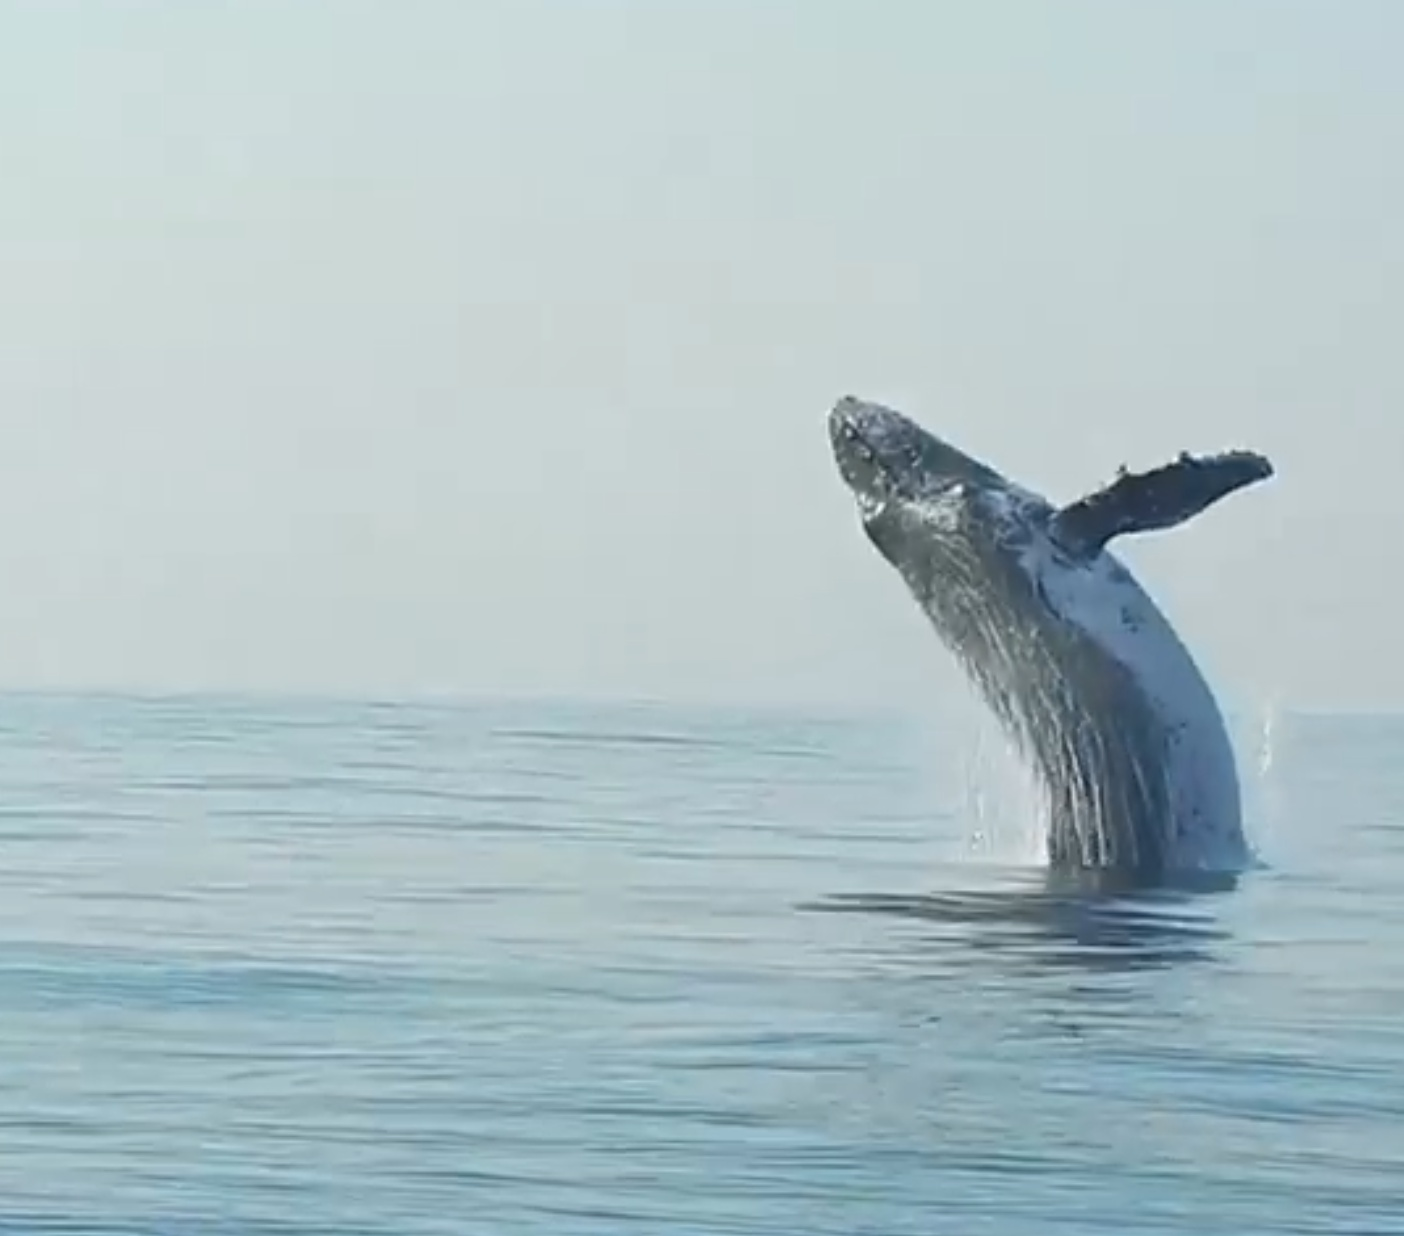humpback: (819, 377, 1260, 871)
